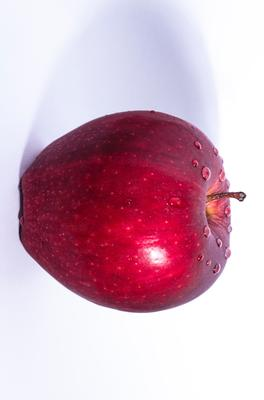apple: (0, 0, 264, 400)
